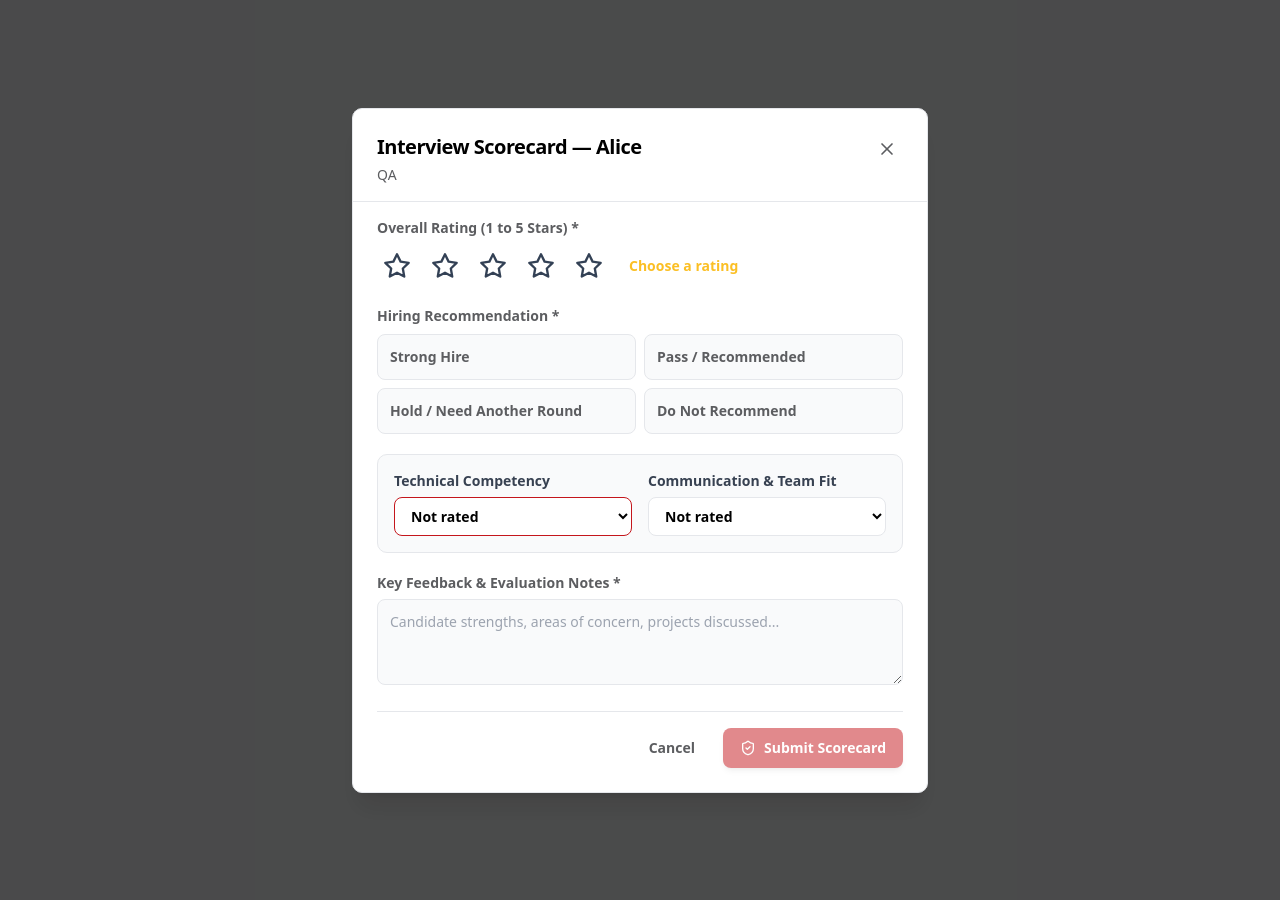
Test case: Feedback rating vs recommendation › requires an explanation for a conflict and passes it on submit
Later steps or results of the test are not shown.
Click the button named "1 star": [397, 266] box [377, 246, 417, 286]
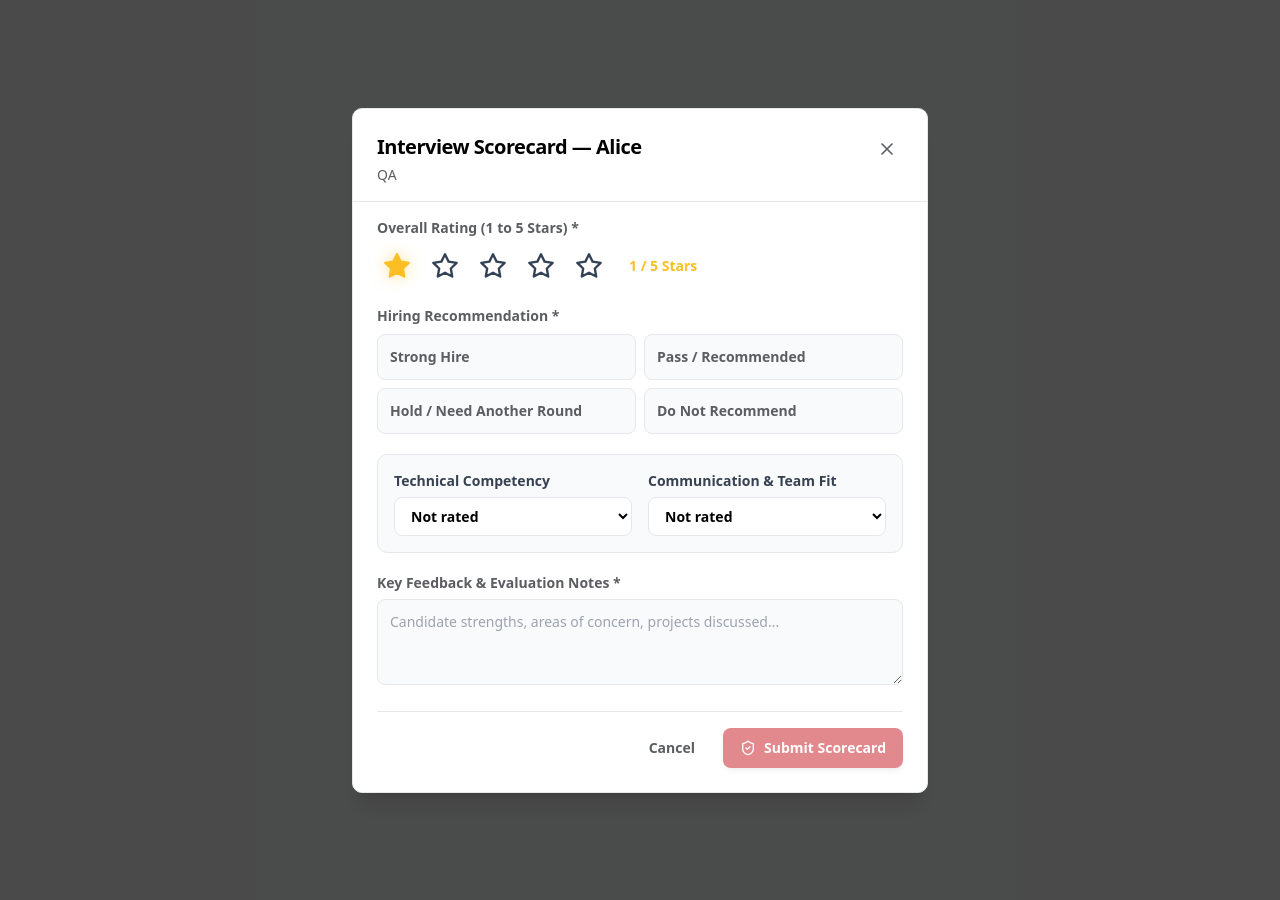
Click the button "Strong Hire": [506, 356] box [377, 334, 636, 380]
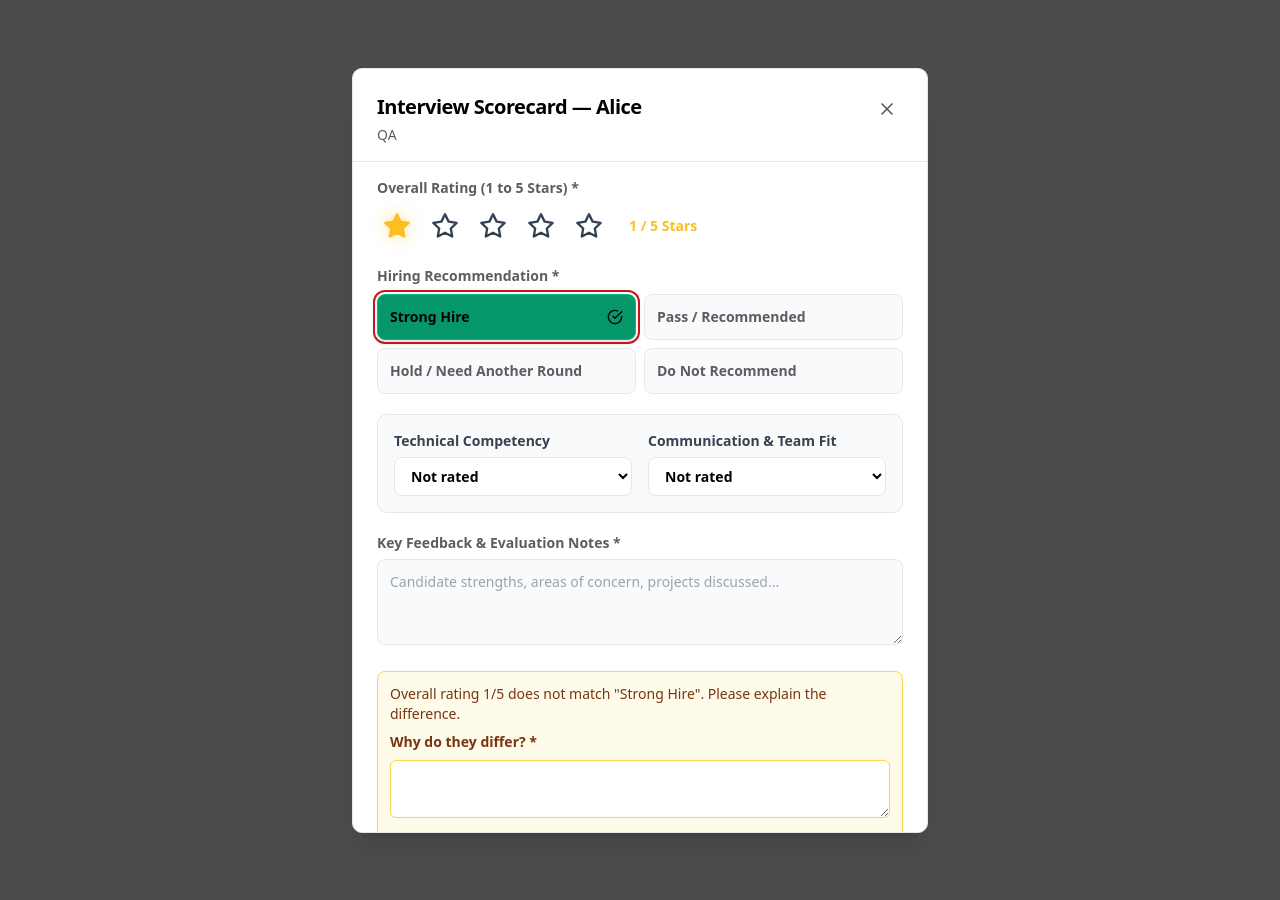
Expected: the message with test id "rating-mismatch-warning" is shown, [377, 670, 903, 832]
In the text box with placeholder "Candidate strengths": [640, 602] box [377, 558, 903, 644], type "Solid answers overall"
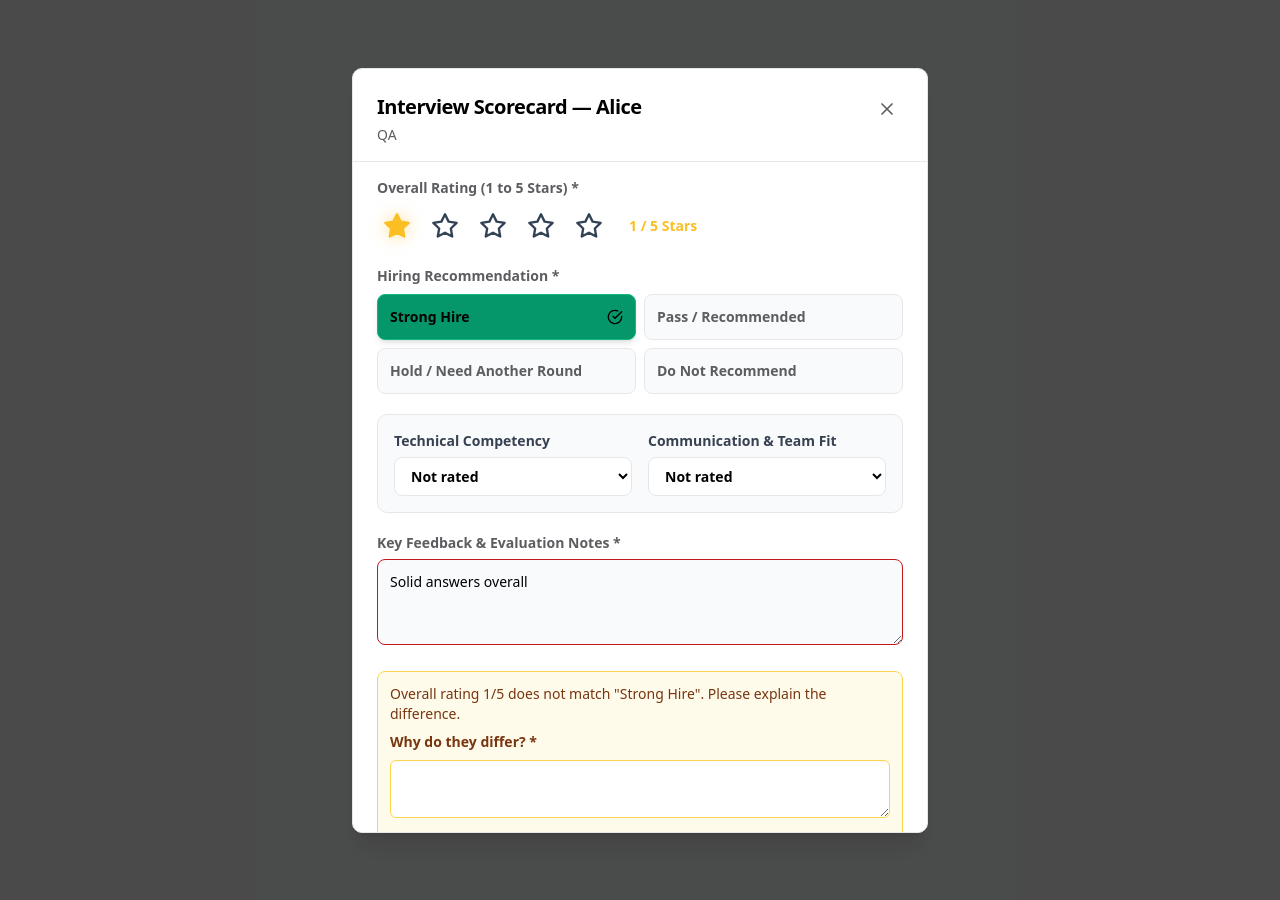
In the text box with test id "conflict-explanation": [640, 788] box [390, 760, 890, 818], type "Stars were clicked by mistake"
(page scrolled)
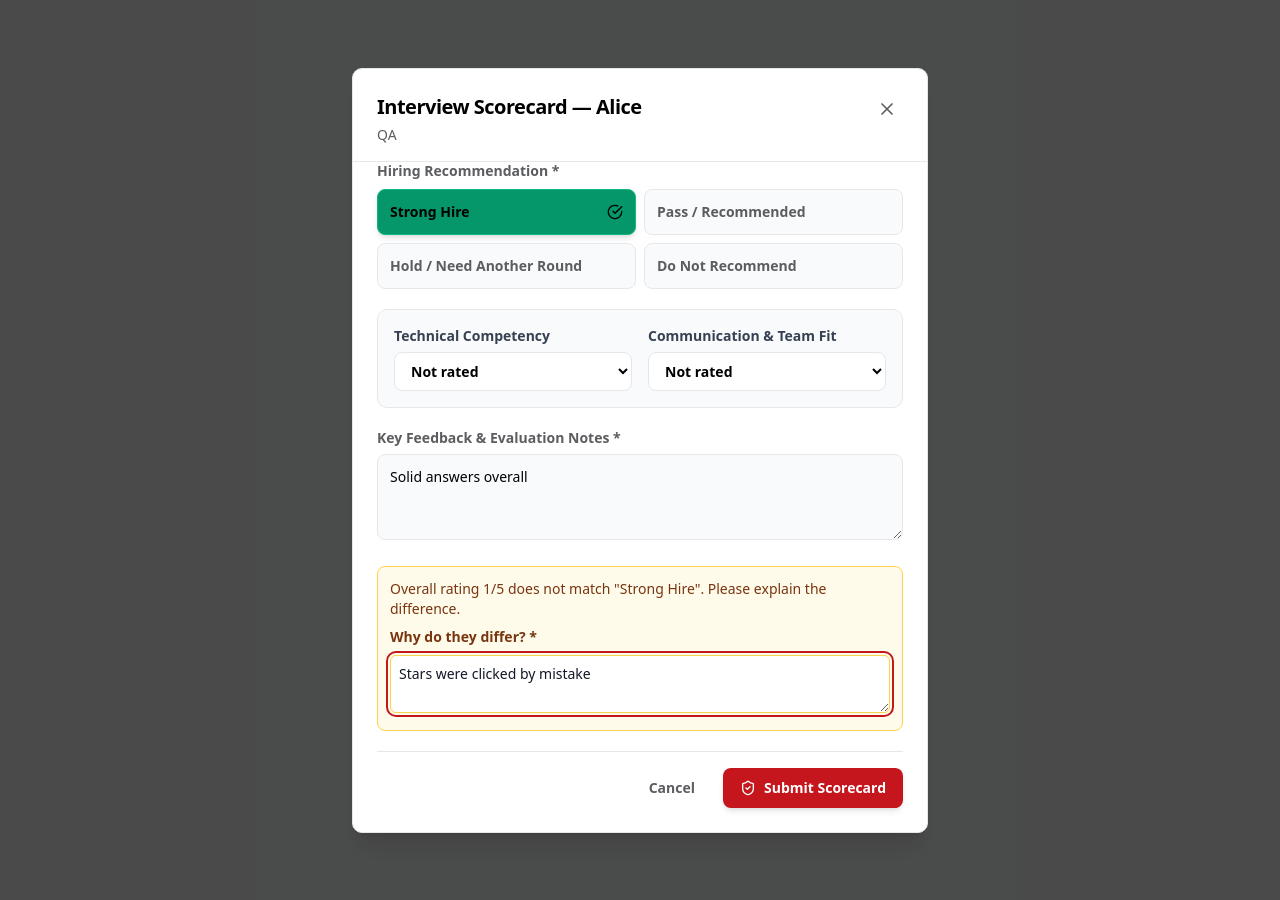
Expected: the button "Submit Scorecard" is enabled, [723, 768, 903, 808]
